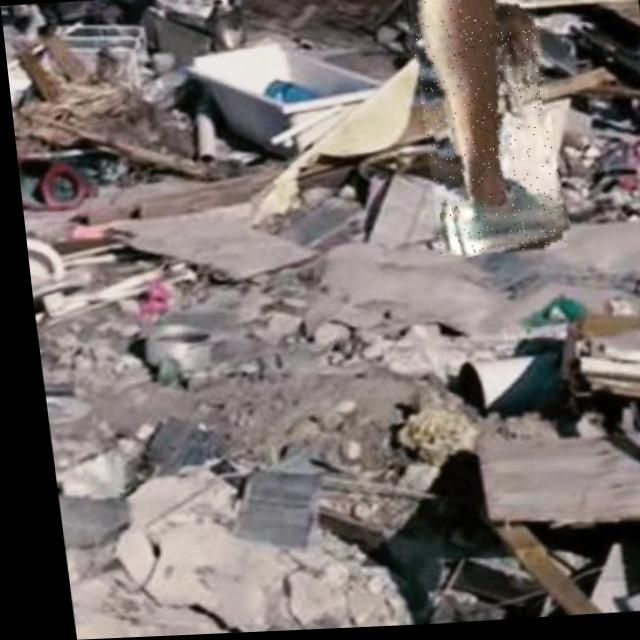Person in Rubble: (405, 0, 561, 259)
